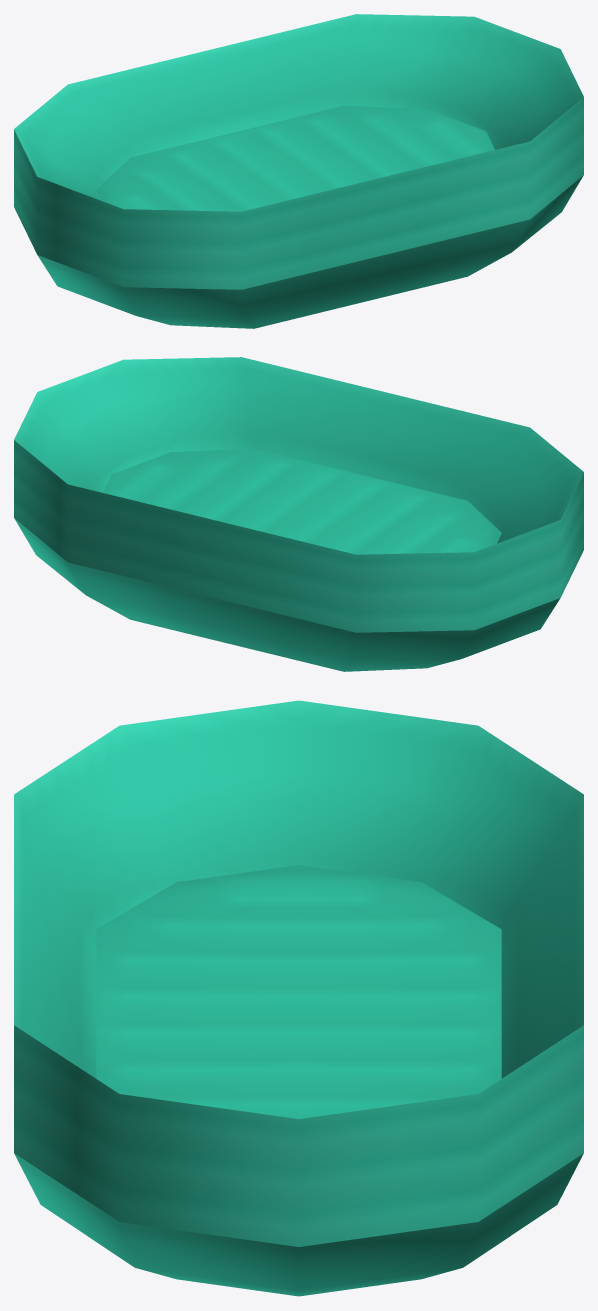
The model's file is jsf_Tray_10_Set.fbx.
The picture shows the model from 3 angles, top to bottom: view 1: azimuth 30°, elevation 25°; view 2: azimuth 150°, elevation 25°; view 3: azimuth 270°, elevation 25°; orthographic projection. The views are drawn at different scales.
Visible parts, largest first — view 1: jsf_Tray_10_Set; view 2: jsf_Tray_10_Set; view 3: jsf_Tray_10_Set.
Boxes of the visible parts, x1,y1,x2,y2 form: jsf_Tray_10_Set: [14, 14, 583, 328]; jsf_Tray_10_Set: [14, 357, 583, 671]; jsf_Tray_10_Set: [14, 700, 583, 1296].
Bounding box in the file's own units: 12.35 × 3.26 × 7.11.
